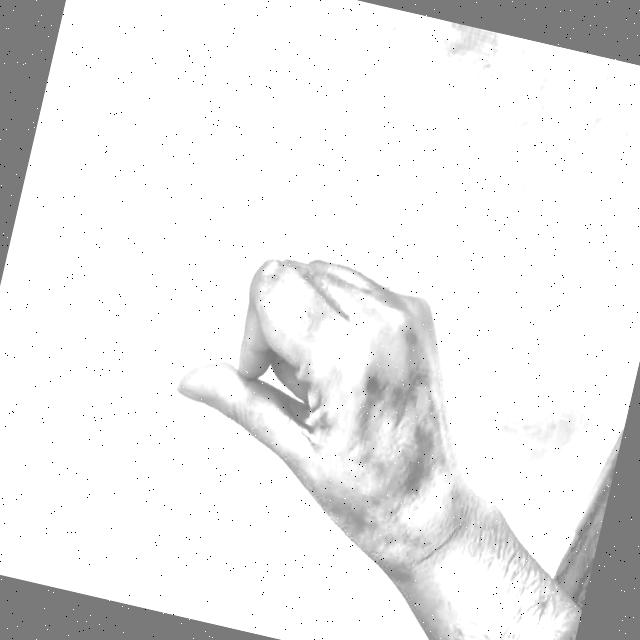Ay: (106, 203, 486, 615)
